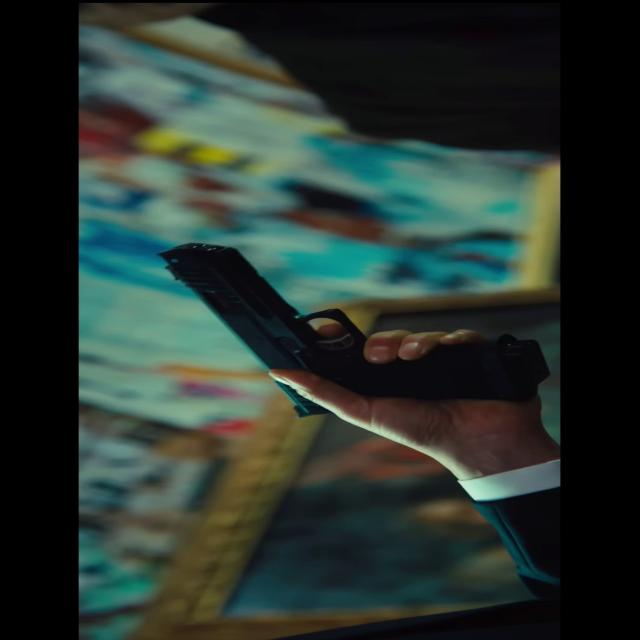weapons: (142, 236, 558, 426)
